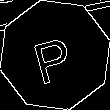P_N: (31, 26, 79, 84)
